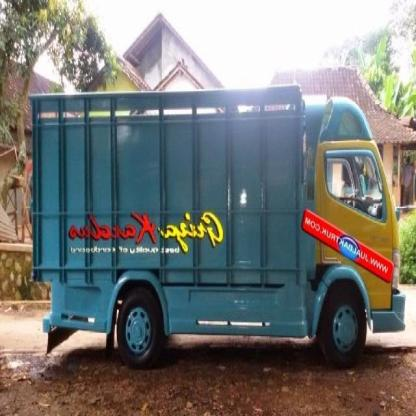truck: (30, 83, 408, 374)
